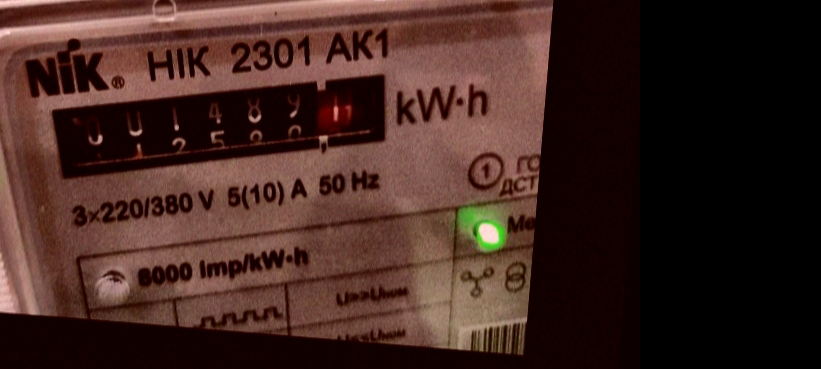0: (118, 102, 147, 140), (79, 113, 106, 150)
1: (323, 87, 345, 126), (163, 102, 185, 134)
4: (201, 95, 226, 128)
8: (241, 90, 265, 128)
9: (281, 87, 304, 121)
screen: (33, 38, 419, 219)
